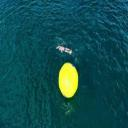yellow: (58, 62, 78, 98)
